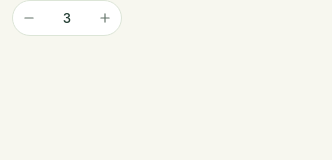
Test case: numeric limits support keyboard stepping and clamp typed values on blur
Click the number field named "Search requests" at (67, 18), box [45, 4, 89, 32]
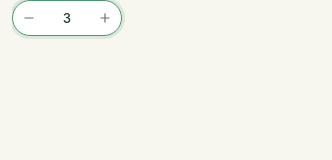
Press Arrowup
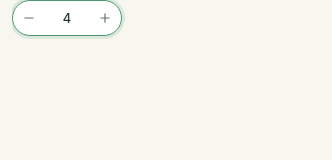
Check: the number field named "Search requests" has attribute aria-valuenow="4", box [45, 4, 89, 32]
Press Home
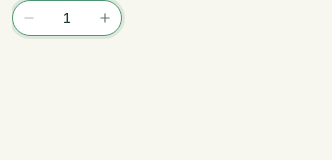
Check: the button named "Decrease search requests" is disabled, box [15, 4, 43, 32]
Check: the number field named "Search requests" has attribute aria-valuenow="1"
Replace the text in the number field named "Search requests" with "99" at (67, 18), box [45, 4, 89, 32]
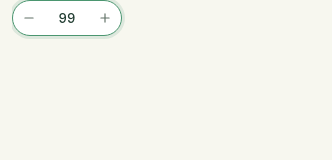
Press Tab
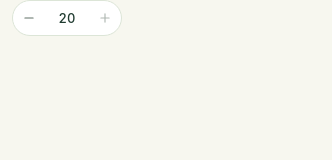
Check: the number field named "Search requests" holds "20", box [45, 4, 89, 32]
Check: the button named "Increase search requests" is disabled, box [91, 4, 119, 32]
